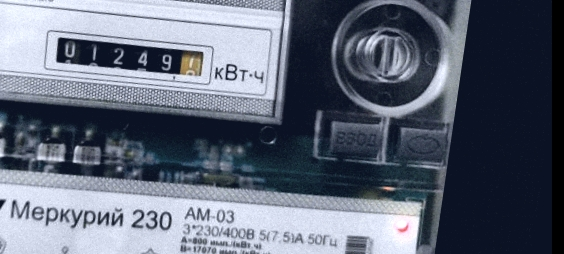0: (62, 38, 77, 59)
1: (87, 41, 99, 61)
2: (110, 45, 126, 66)
4: (135, 47, 149, 68)
7: (183, 49, 198, 70)
9: (158, 51, 174, 73)
screen: (34, 21, 214, 91)
